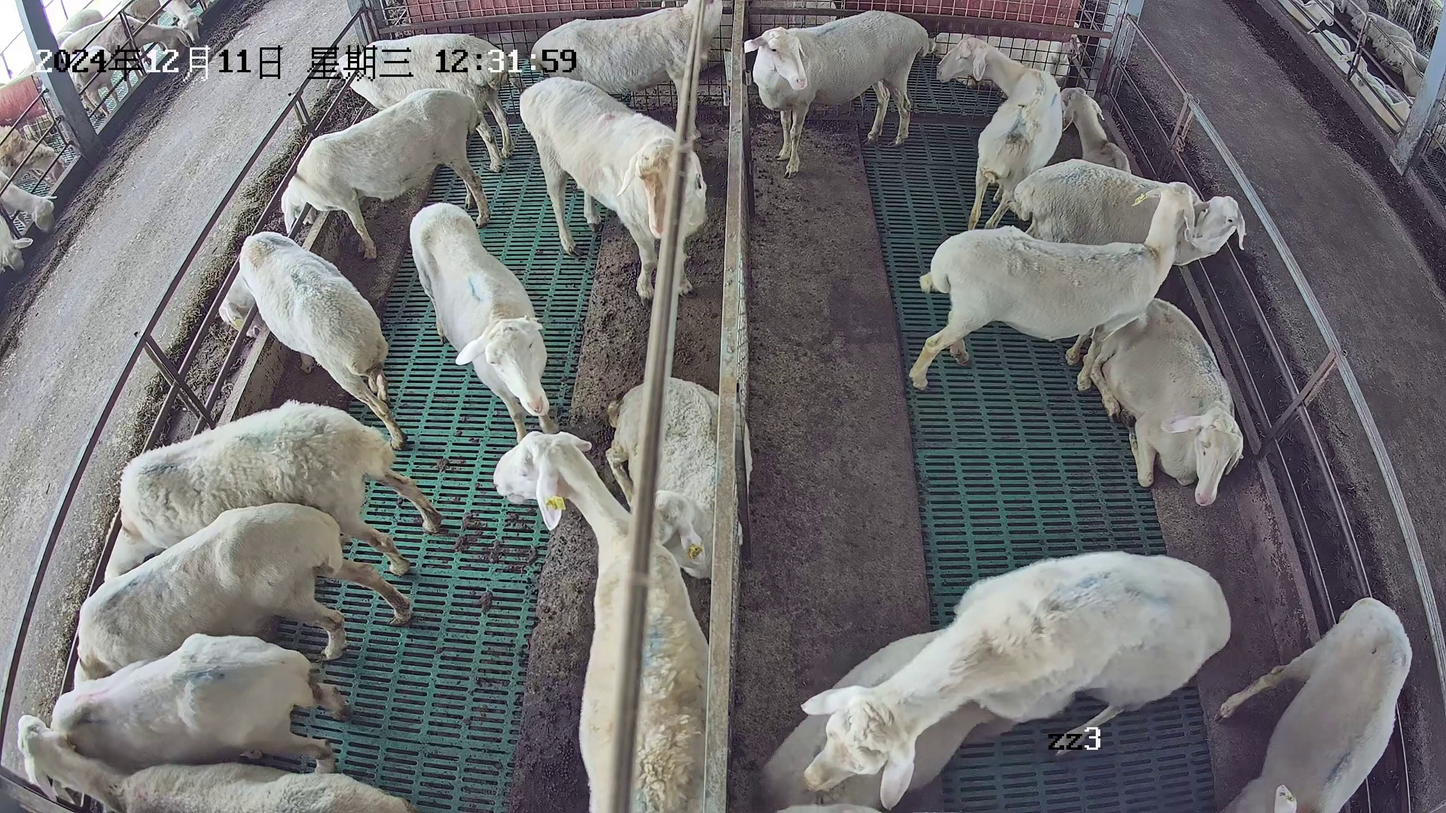Smounting: (756, 550, 1232, 813)
mounted: (759, 628, 995, 812)
